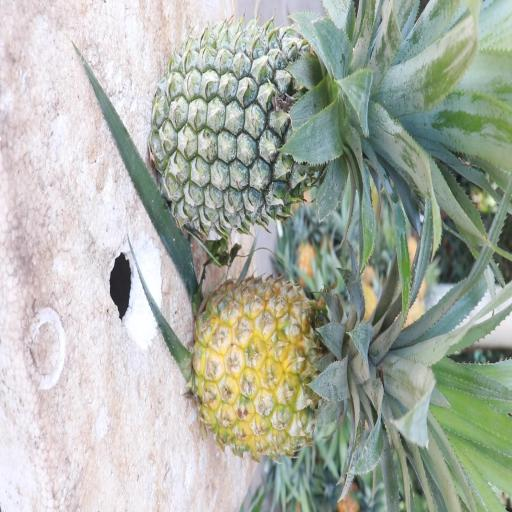Pineapple - v8 v1: (191, 259, 478, 479)
